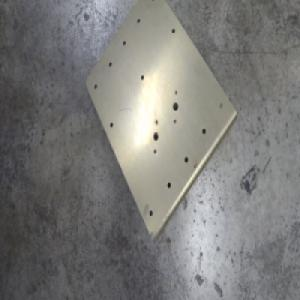MetalSheet: (83, 0, 238, 245)
